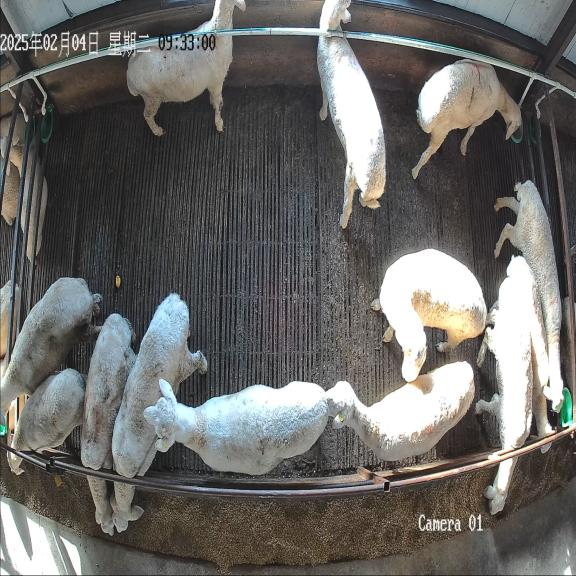drinking: (413, 59, 523, 178)
eating: (111, 293, 207, 535), (475, 278, 532, 519), (80, 313, 136, 537), (8, 368, 86, 475)
stand: (144, 380, 328, 475), (126, 0, 245, 136), (317, 0, 386, 228), (495, 180, 563, 405), (372, 249, 487, 381), (327, 361, 475, 461), (0, 277, 101, 413), (507, 256, 552, 454)
